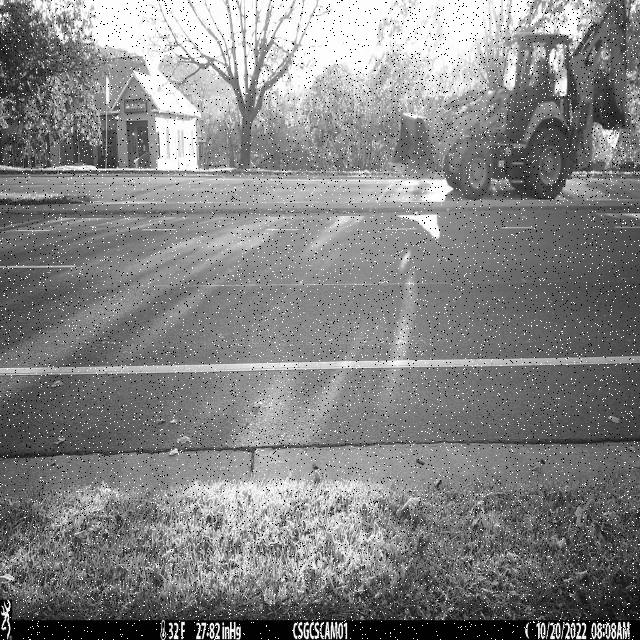Construction Equipment: (391, 0, 631, 200)
